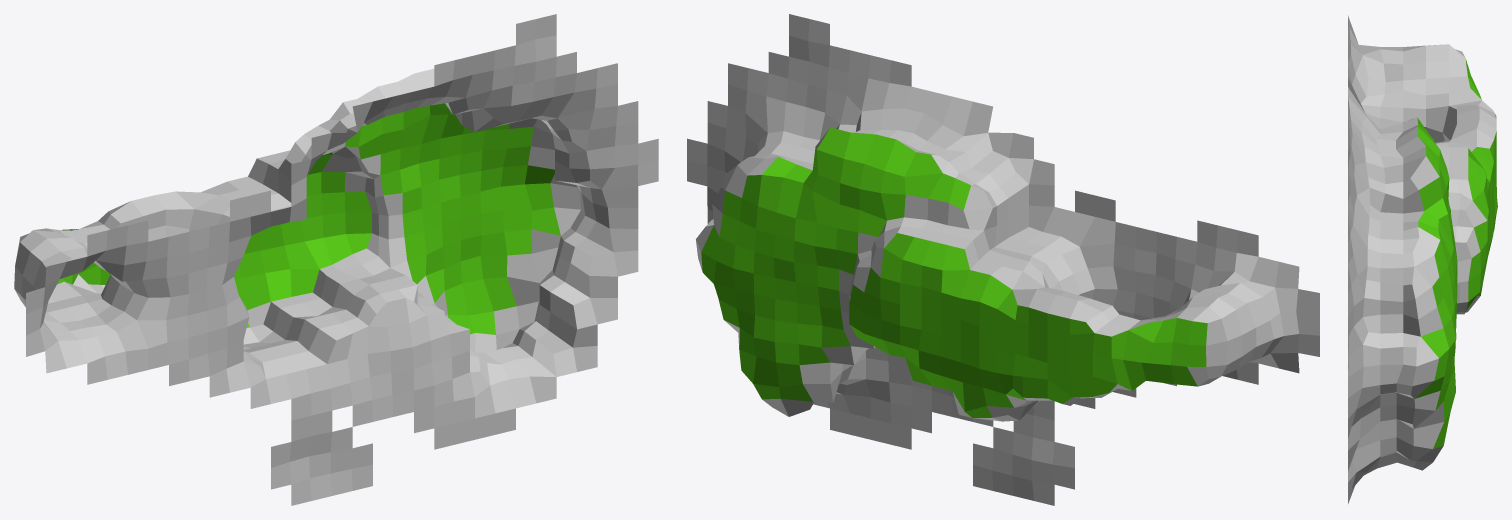
The model's file is islearch.obj.
3 views of the same model, side by side, from view 1: azimuth 30°, elevation 25°; view 2: azimuth 150°, elevation 25°; view 3: azimuth 270°, elevation 25° (orthographic). The views are drawn at different scales.
Visible parts, largest first — view 1: islearch; view 2: islearch; view 3: islearch.
Part boxes in pixels (<box>): islearch: <box>14,14,658,505</box>; islearch: <box>687,14,1319,505</box>; islearch: <box>1348,15,1497,503</box>.
Size of the model in its own units: 1162 by 750 by 246.
